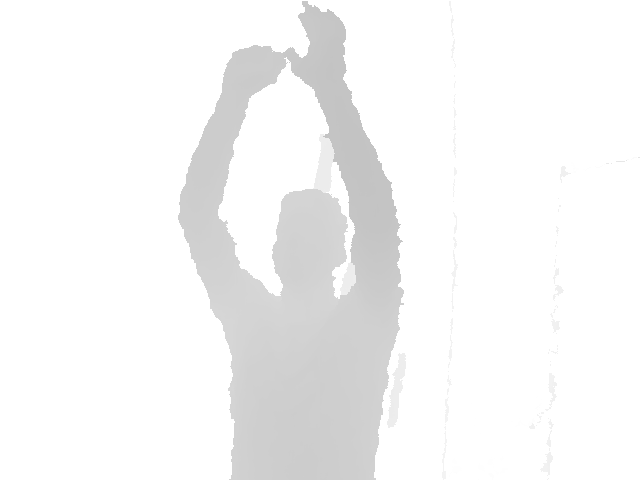hand: (286, 1, 346, 90), (223, 45, 287, 94)
head: (272, 188, 346, 296)
personw: (177, 1, 406, 480), (312, 132, 410, 431)
